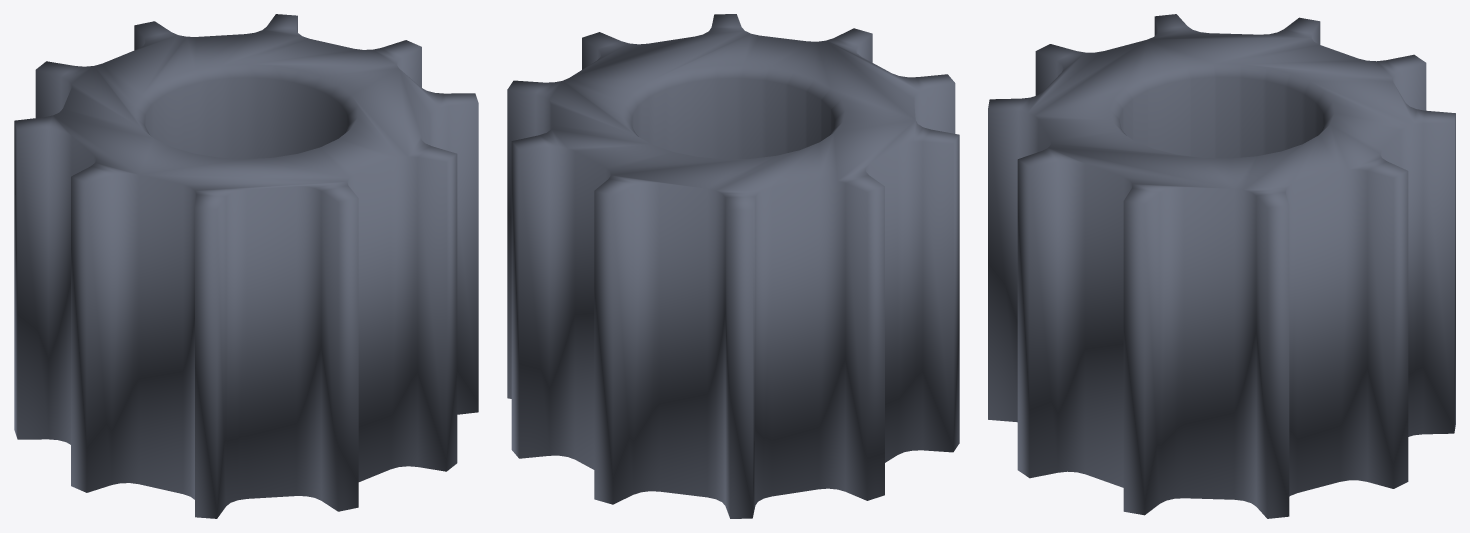
Rendered from solo_upper_leg_left_side_2.obj.
3 views of the same model, side by side, from view 1: azimuth 30°, elevation 25°; view 2: azimuth 150°, elevation 25°; view 3: azimuth 270°, elevation 25° (orthographic).
Size of the model in its own units: 0.00897 by 0.0067 by 0.00914.
